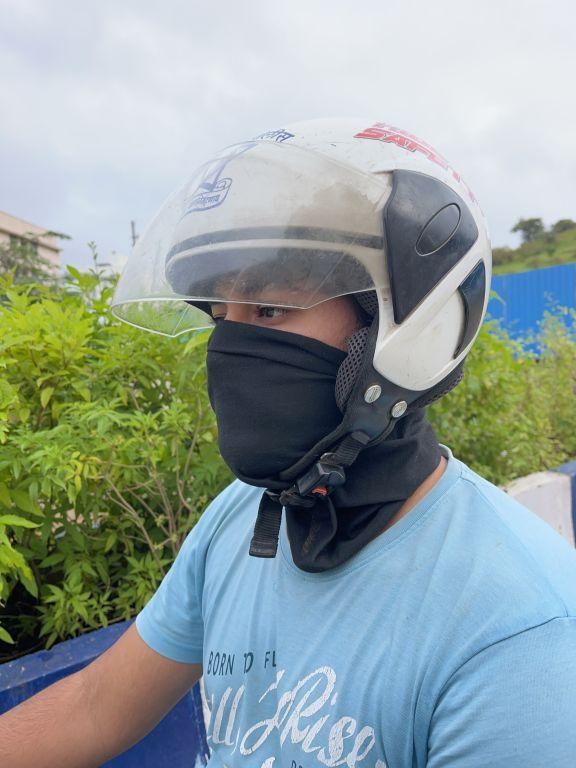helmet: (105, 102, 505, 505)
